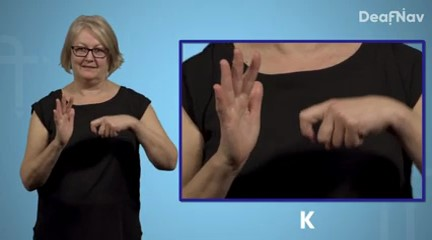K: (50, 89, 144, 155)
